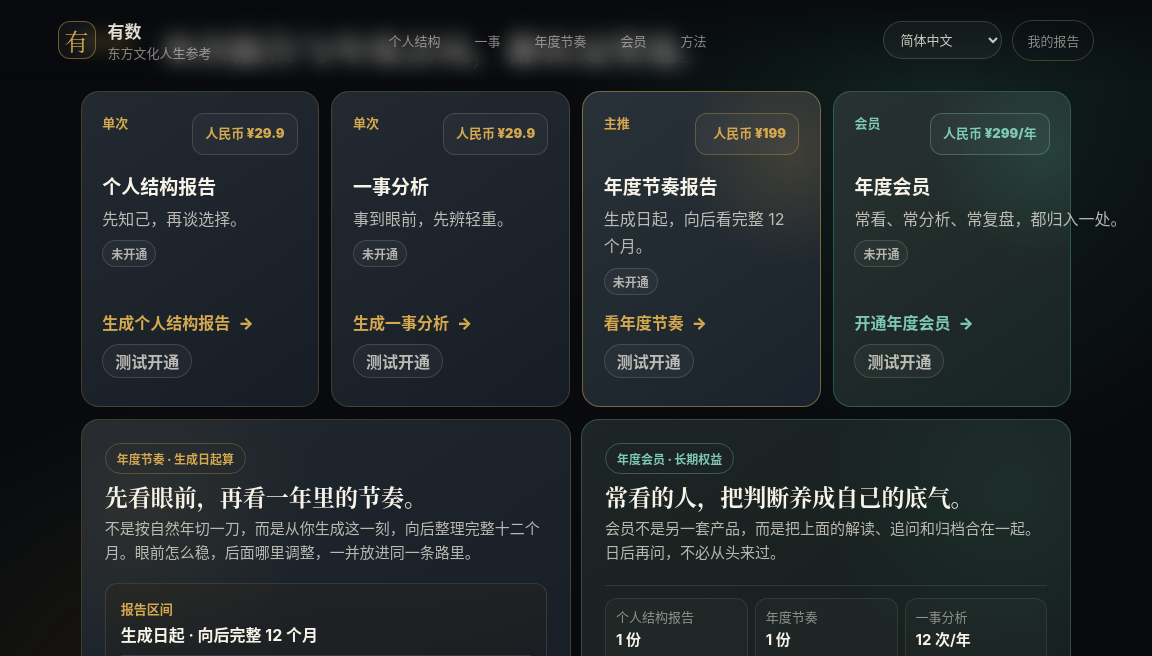
it: Youshu homepage › shows annual membership entitlements and unlocks all three report types for testing
(page scrolled)
Click the button with aria-label "测试开通：年度会员": (899,361) [854, 344, 944, 378]
(page scrolled)
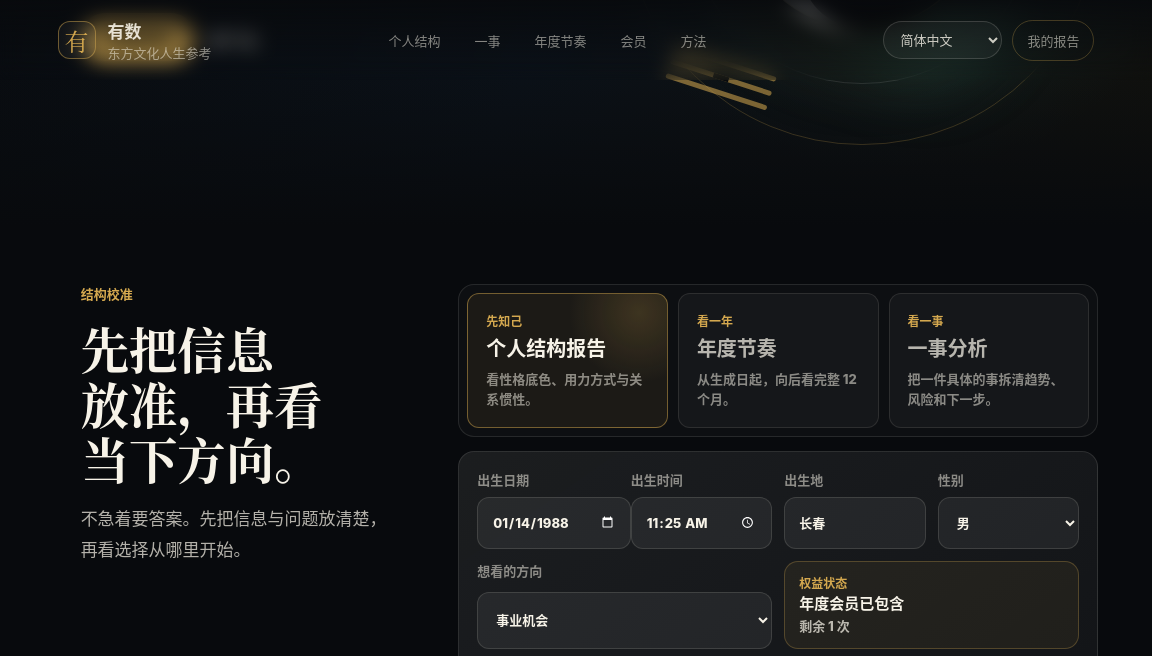
Now the text "年度会员已包含" is shown, box [799, 594, 904, 613]
Click the button "看一事 一事分析 把一件具体的事拆清趋势、风险和下一步。": (989,360) [888, 292, 1089, 428]
(page scrolled)
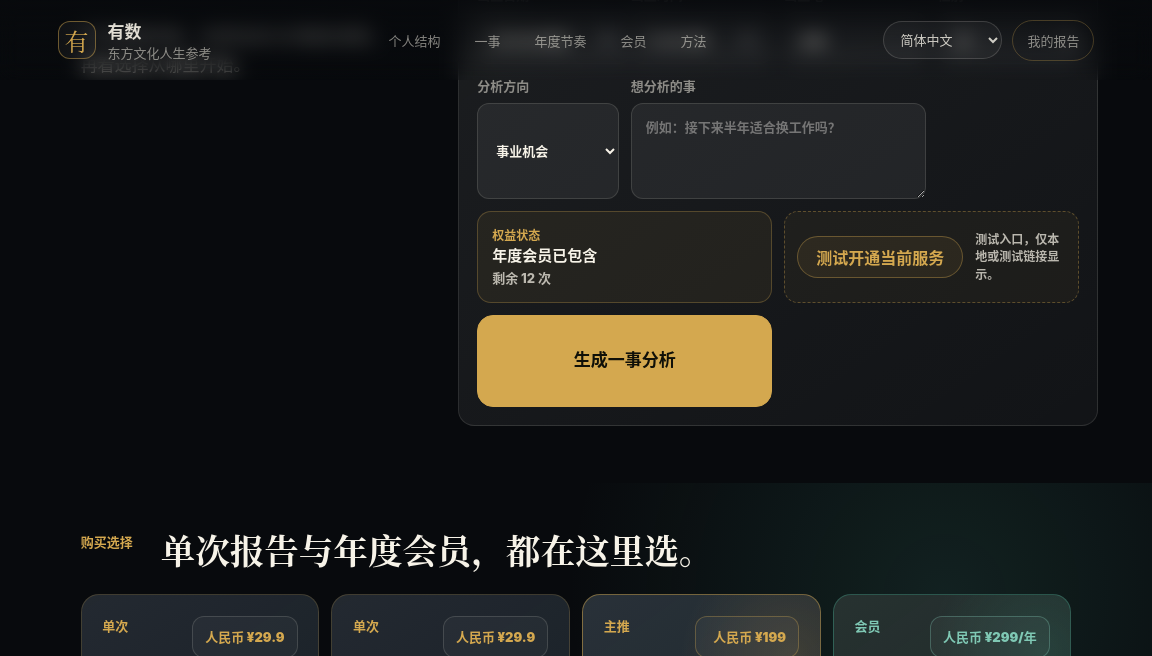
Now the text "年度会员已包含" is shown, box [492, 246, 597, 265]
Now the button "生成一事分析" is enabled, box [477, 315, 772, 407]
Now the text "剩余 12 次" is shown, box [492, 270, 551, 286]
